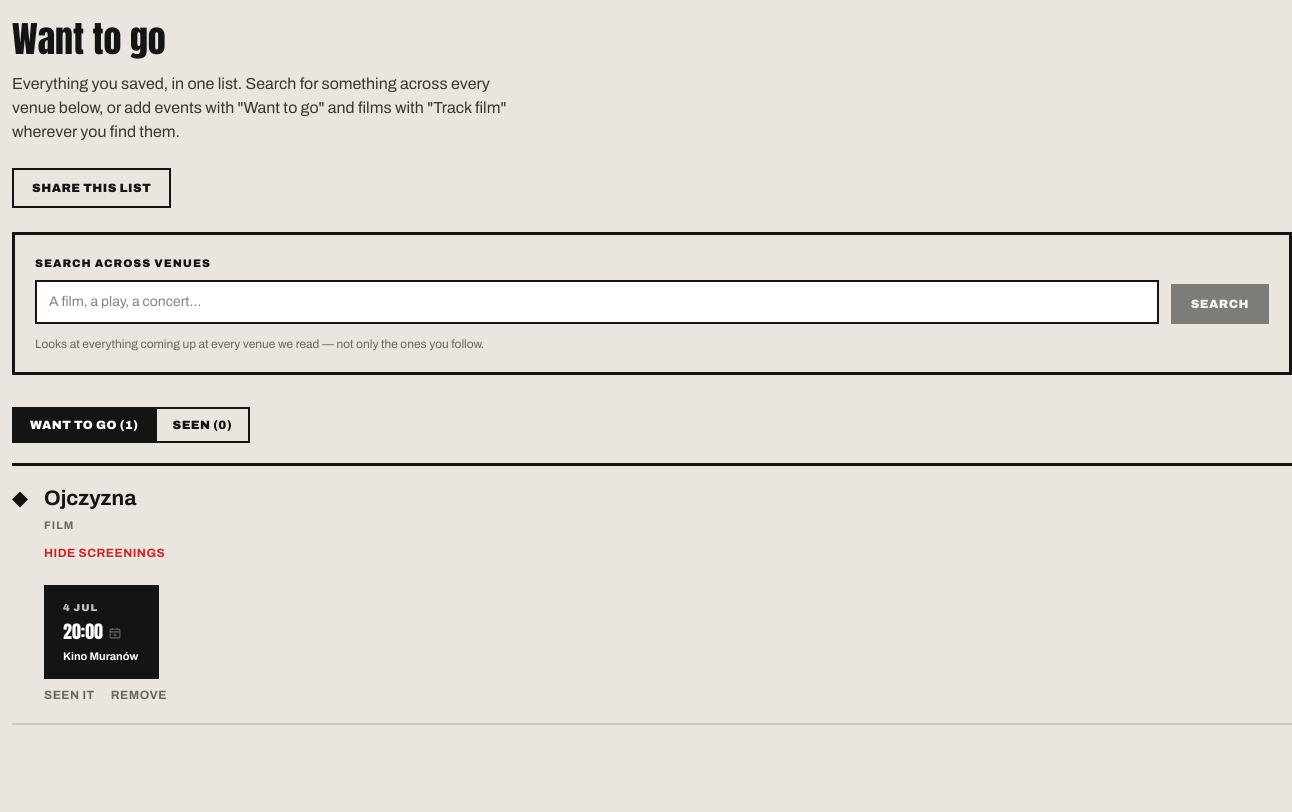
it: WantToGoSection — saved events carry no date › shows the screenings without being asked, and can be collapsed (GOI-66)
expect the text "Kino Muranów" is shown: met, box [63,648,138,664]
expect the link "20:00" is shown: met, box [63,618,103,646]
Note: Still collapsible, for a long list.
What coordinates should you click on to do the following:
click the button "Hide screenings"
I would click on:
 (105, 553)
Its box is [44,545,165,561].
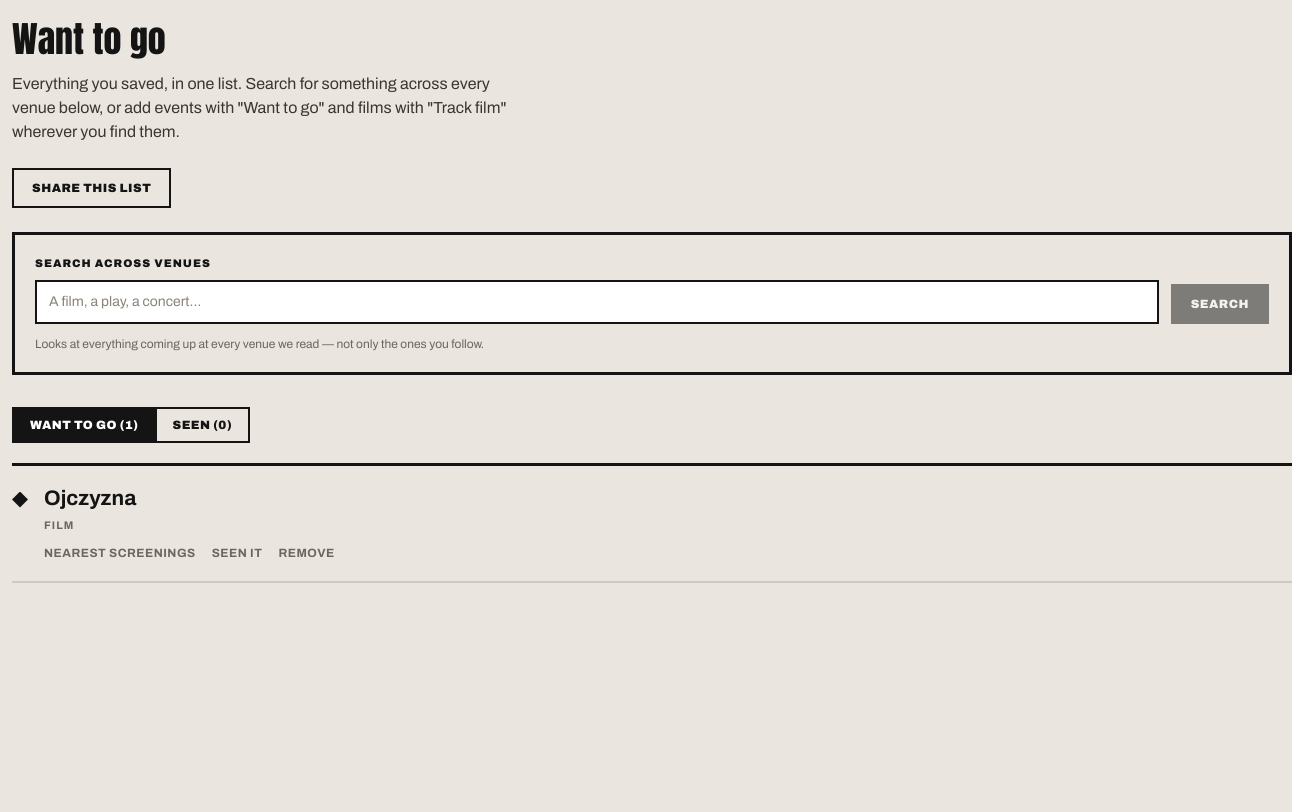
expect the link "20:00" is gone: met
